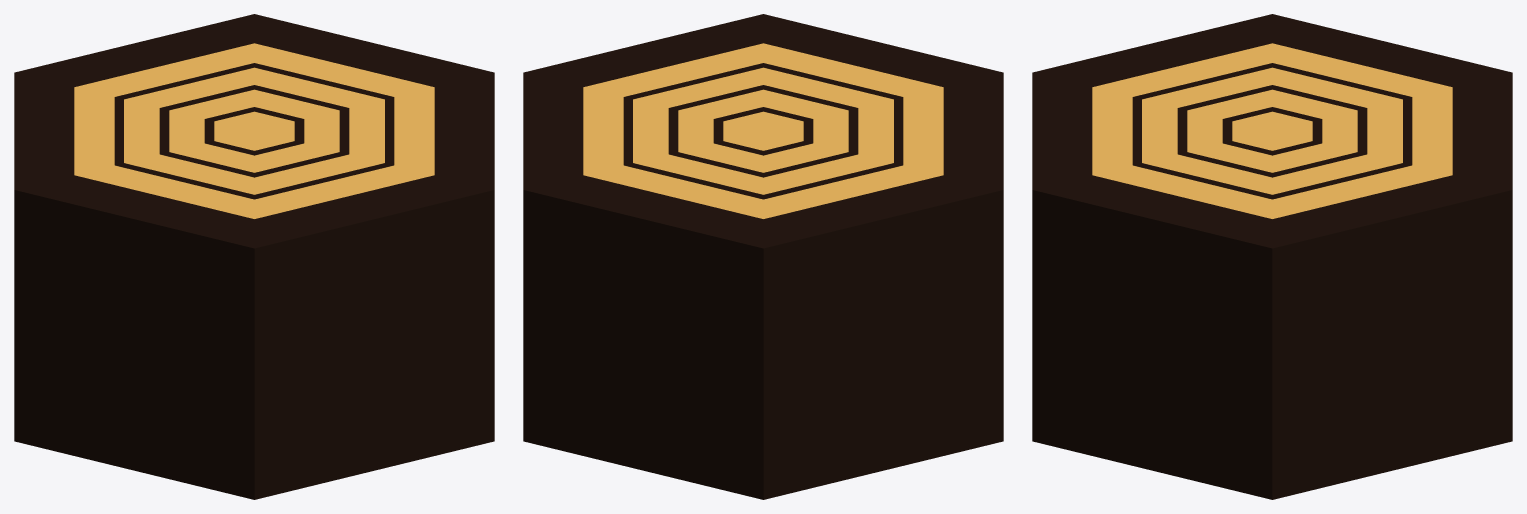
The model's file is Plants-Tree-Stump.FBX.
3 renders of one model, left to right at view 1: azimuth 30°, elevation 25°; view 2: azimuth 150°, elevation 25°; view 3: azimuth 270°, elevation 25°, orthographic.
Visible parts, largest first — view 1: Plants-Tree-Stump; view 2: Plants-Tree-Stump; view 3: Plants-Tree-Stump.
Boxes of the visible parts, x1,y1,x2,y2 form: Plants-Tree-Stump: (14,14,494,499); Plants-Tree-Stump: (523,14,1003,499); Plants-Tree-Stump: (1032,14,1512,499).
Bounding box in the file's own units: 10 × 5 × 8.66.
